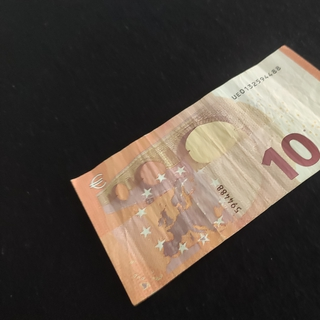10EUROBack: (70, 44, 320, 306)
